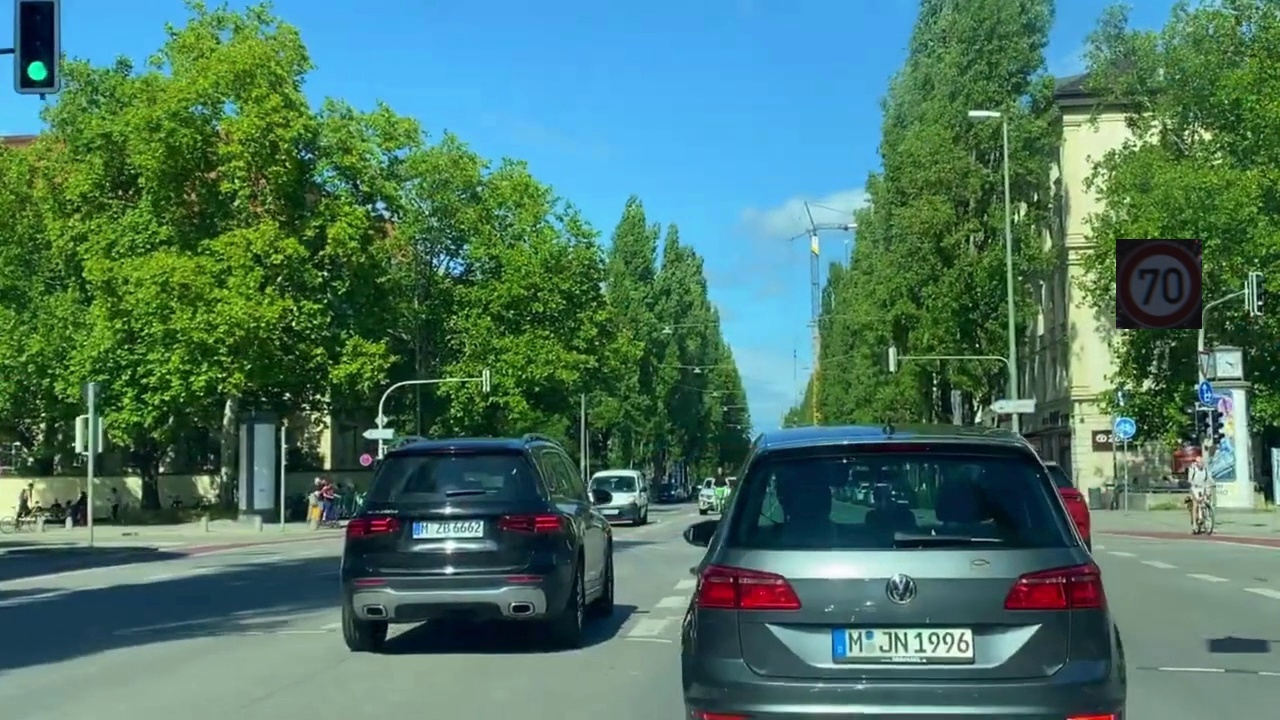Speed 70: (1116, 239, 1202, 329)
